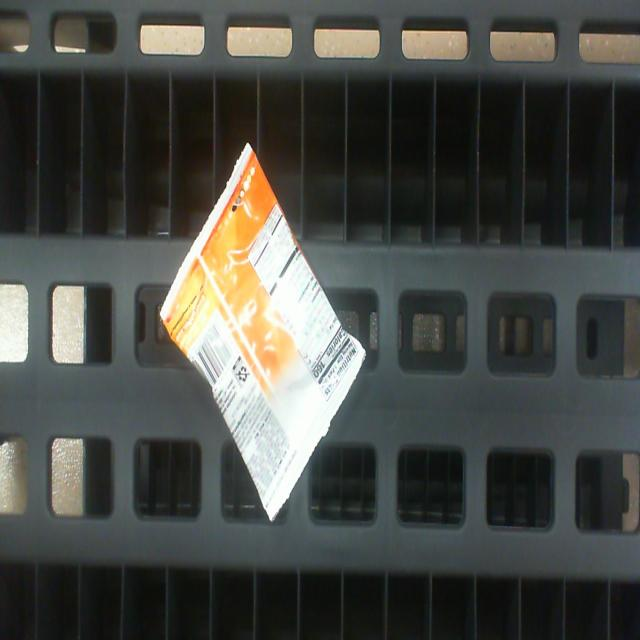snack: (160, 146, 362, 524)
